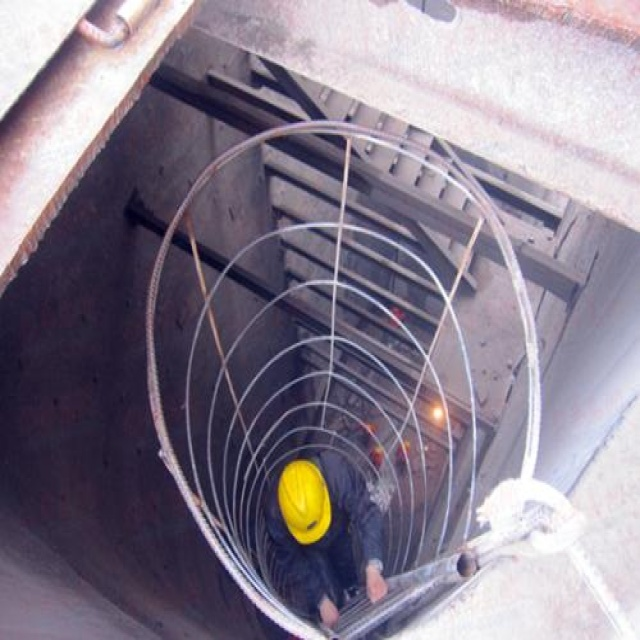Helmet: (272, 451, 337, 555)
